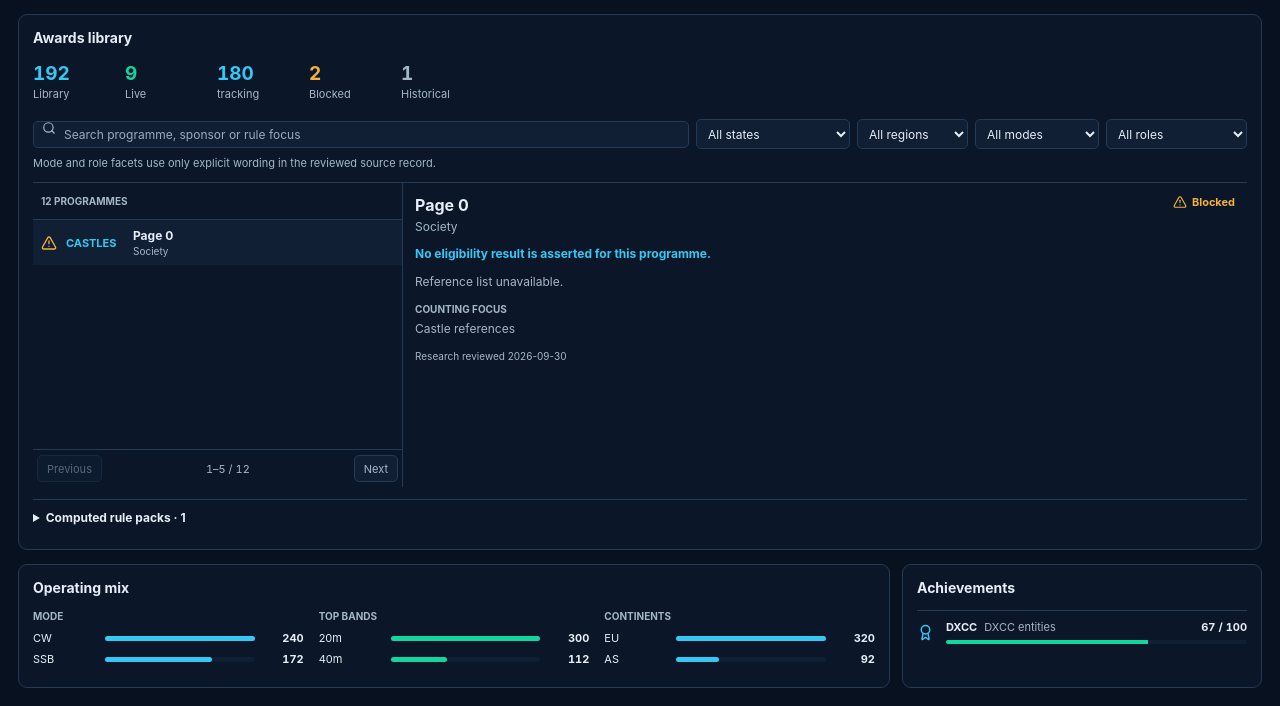
Test: native Insights and Awards presentation › does not reset early pagination when an unchanged initial search settles
The image size is (1280, 706).
(page scrolled)
Click the button "Next". click: click(376, 469)
box: top-left (354, 455), bottom-right (398, 482)
Wait 300 ms
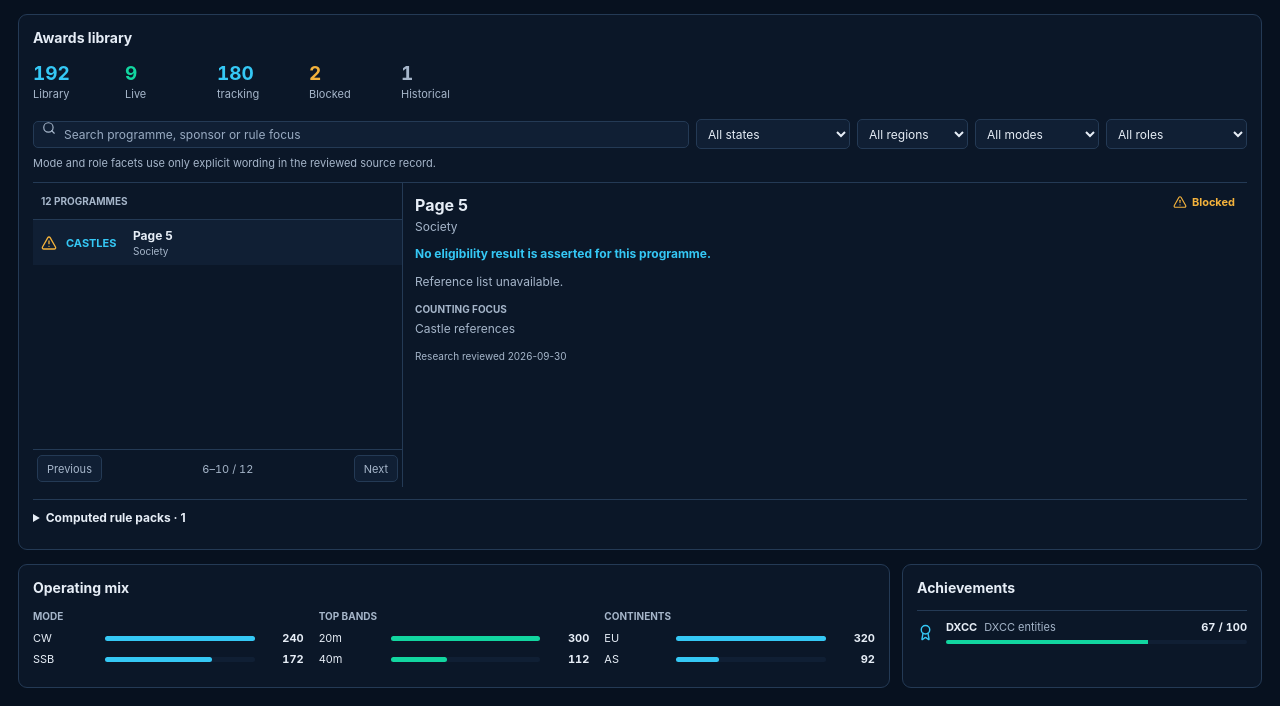
Check: the button with aria-label "Page 5, Blocked" is shown, box top-left (33, 219), bottom-right (402, 265)
